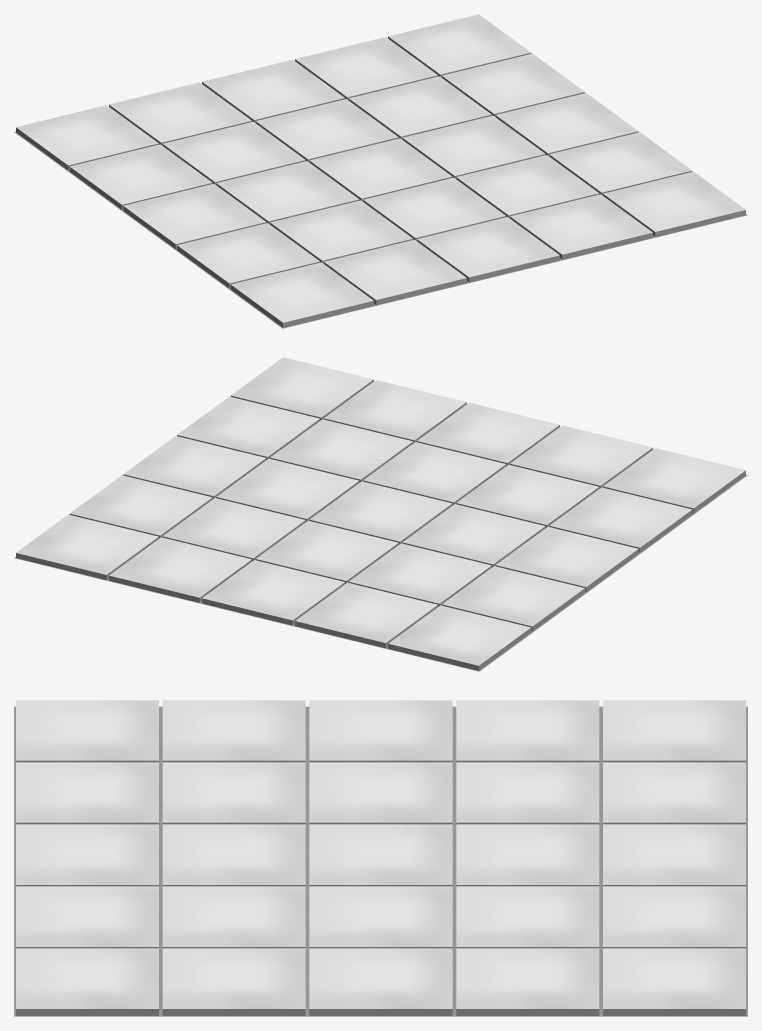
The model's file is floor_grid.obj.
The picture shows the model from 3 angles, top to bottom: view 1: azimuth 30°, elevation 25°; view 2: azimuth 150°, elevation 25°; view 3: azimuth 270°, elevation 25°; orthographic projection. The views are drawn at different scales.
Parts seen in each view (by area): view 1: Plane; view 2: Plane; view 3: Plane.
Part boxes in pixels (left/top/right/bottom): Plane: left=14, top=14, right=747, bottom=328; Plane: left=14, top=357, right=747, bottom=671; Plane: left=14, top=700, right=747, bottom=1016.
Size of the model in its own units: 10 by 0.1057 by 10.
2 materials, 1 textured.
